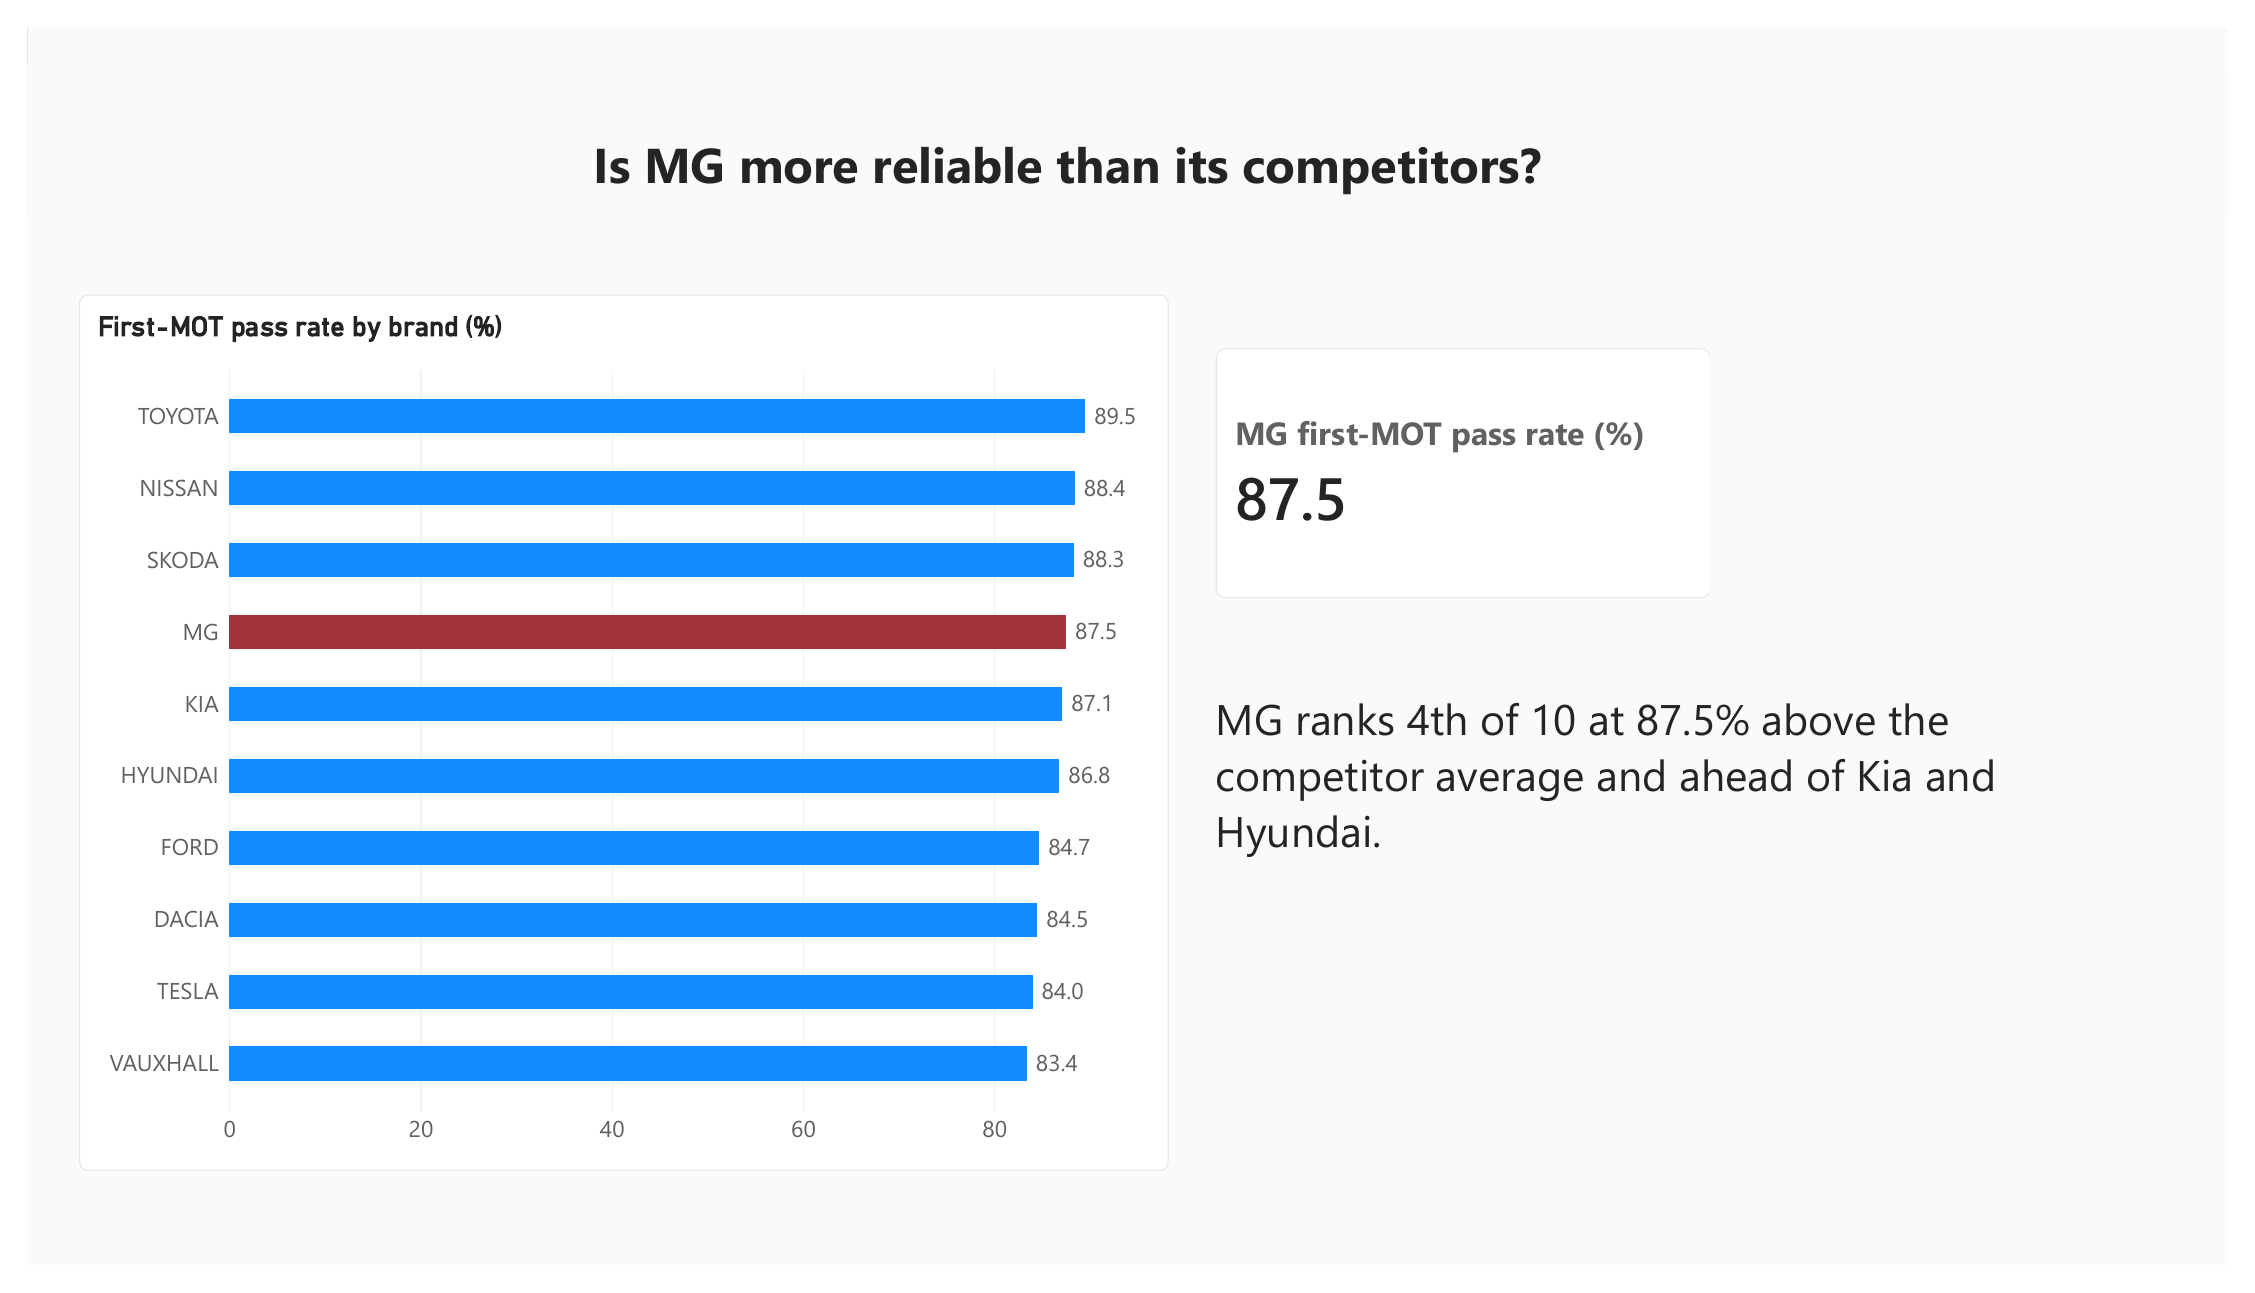

The dashboard page shown, as its layout file describes it:
{"tool":"powerbi","page":{"name":"Reliability","canvas":[1920,1080],"ordinal":0},"visuals":[{"type":"cardVisual","fields":{"Data":["Avg(pass_rate.pass_rate_pct)"]},"box":[1036.7,279.6,432.7,218.4],"z":0},{"type":"clusteredBarChart","title":"First-MOT pass rate by brand (%)","fields":{"Category":["pass_rate.make"],"Y":["Avg(pass_rate.pass_rate_pct)"]},"box":[44.9,232.7,951,765.3],"z":1},{"type":"textbox","box":[493.9,89.8,865.3,232.7],"z":2},{"type":"textbox","box":[1036.7,577.6,783.7,167.3],"z":3}]}

Visuals, with their boxes in screenshot pixels (x1, y1, x2, y2), scaled from the page's 1920x1080 canvas onto the 2255x1293 screenshot:
cardVisual - Avg(pass_rate.pass_rate_pct): crop(1218, 335, 1726, 596)
"First-MOT pass rate by brand (%)" clusteredBarChart: crop(53, 279, 1170, 1195)
textbox: crop(580, 108, 1596, 386)
textbox: crop(1218, 692, 2138, 892)
